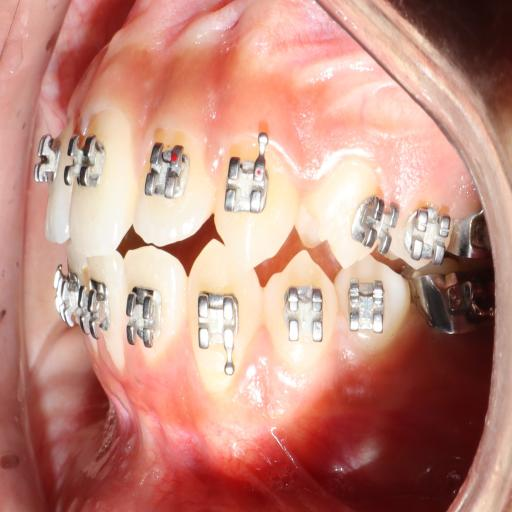correct_brace: (298, 144, 384, 276), (264, 251, 337, 371), (193, 284, 241, 369), (222, 148, 268, 219), (283, 276, 327, 350), (144, 142, 192, 203), (66, 125, 108, 191), (124, 284, 163, 352), (344, 276, 386, 336)
incorrect_brace: (138, 110, 215, 244), (122, 246, 188, 372), (353, 182, 400, 256)
